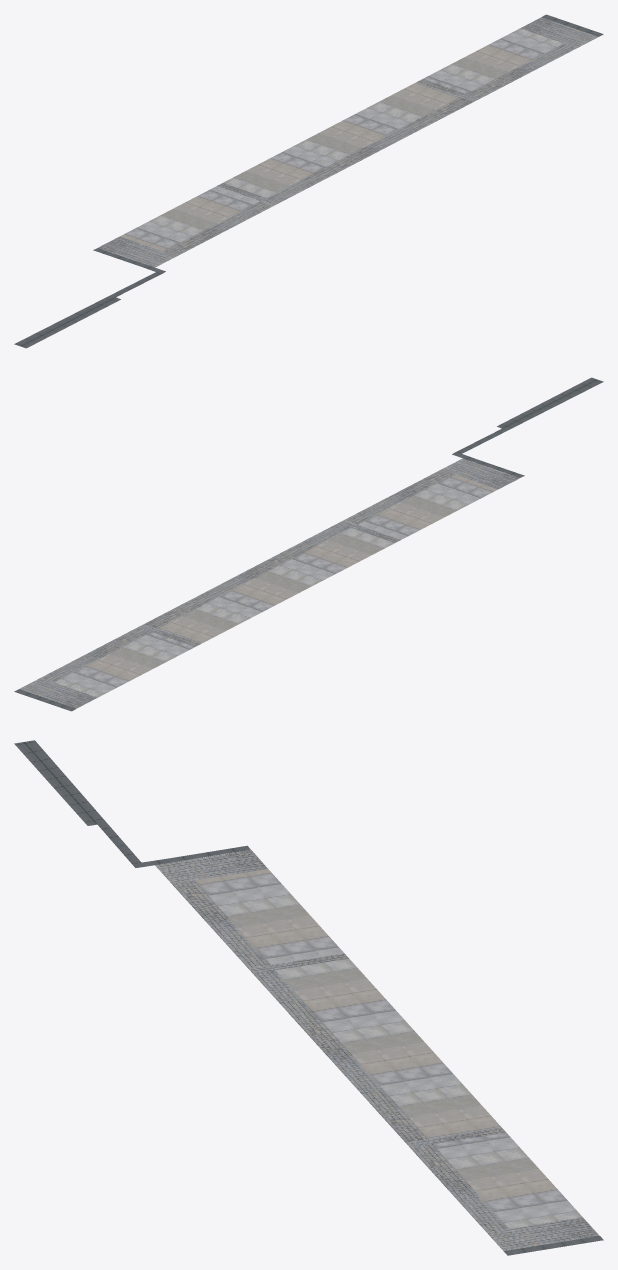
The model's file is extention_floor_JRP.FBX.
The picture shows the model from 3 angles, top to bottom: view 1: azimuth 30°, elevation 25°; view 2: azimuth 210°, elevation 25°; view 3: azimuth 270°, elevation 25°; orthographic projection. The views are drawn at different scales.
Parts seen in each view (by area): view 1: Rectangle094, Rectangle099, Rectangle096, Rectangle100, extention_floor_JRP, Rectangle097; view 2: Rectangle094, Rectangle099, Rectangle096, Rectangle100, extention_floor_JRP, Rectangle097; view 3: Rectangle094, Rectangle099, Rectangle096, Rectangle100, extention_floor_JRP, Rectangle097.
Boxes of the visible parts, <box> form: Rectangle094: <box>120,28,563,251</box>; Rectangle099: <box>164,43,576,256</box>; Rectangle096: <box>267,97,473,202</box>; Rectangle100: <box>98,17,598,267</box>; extention_floor_JRP: <box>14,14,603,348</box>; Rectangle097: <box>217,79,479,205</box>; Rectangle094: <box>54,474,497,697</box>; Rectangle099: <box>41,469,453,682</box>; Rectangle096: <box>144,523,350,628</box>; Rectangle100: <box>19,458,519,708</box>; extention_floor_JRP: <box>14,377,603,711</box>; Rectangle097: <box>138,520,400,646</box>; Rectangle094: <box>194,869,582,1228</box>; Rectangle099: <box>172,880,508,1232</box>; Rectangle096: <box>253,970,427,1142</box>; Rectangle100: <box>155,850,599,1251</box>; extention_floor_JRP: <box>14,740,603,1255</box>; Rectangle097: <box>248,953,505,1147</box>.
Size of the model in its own units: 4564 by 1.25e-05 by 2207.
Materials: 3 (3 with a texture image).
